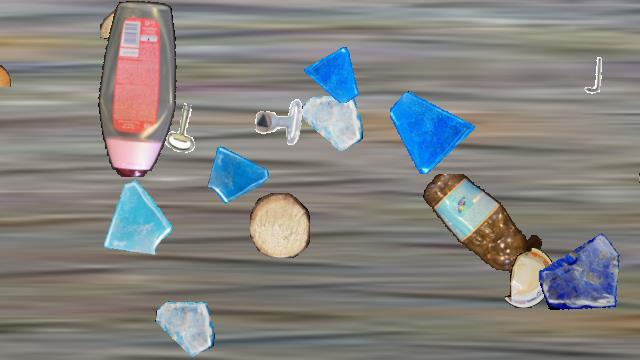glass: (539, 227, 625, 313), (390, 89, 474, 173), (93, 179, 173, 259), (205, 140, 271, 206), (302, 93, 362, 153), (155, 299, 215, 359), (304, 46, 360, 102)
metal: (157, 100, 213, 156), (254, 97, 306, 149), (572, 55, 612, 95)
plastic: (97, 1, 181, 177), (420, 174, 544, 272), (505, 248, 555, 308), (639, 169, 640, 273)
wood: (250, 193, 310, 257), (100, 9, 174, 41), (0, 63, 11, 87)
